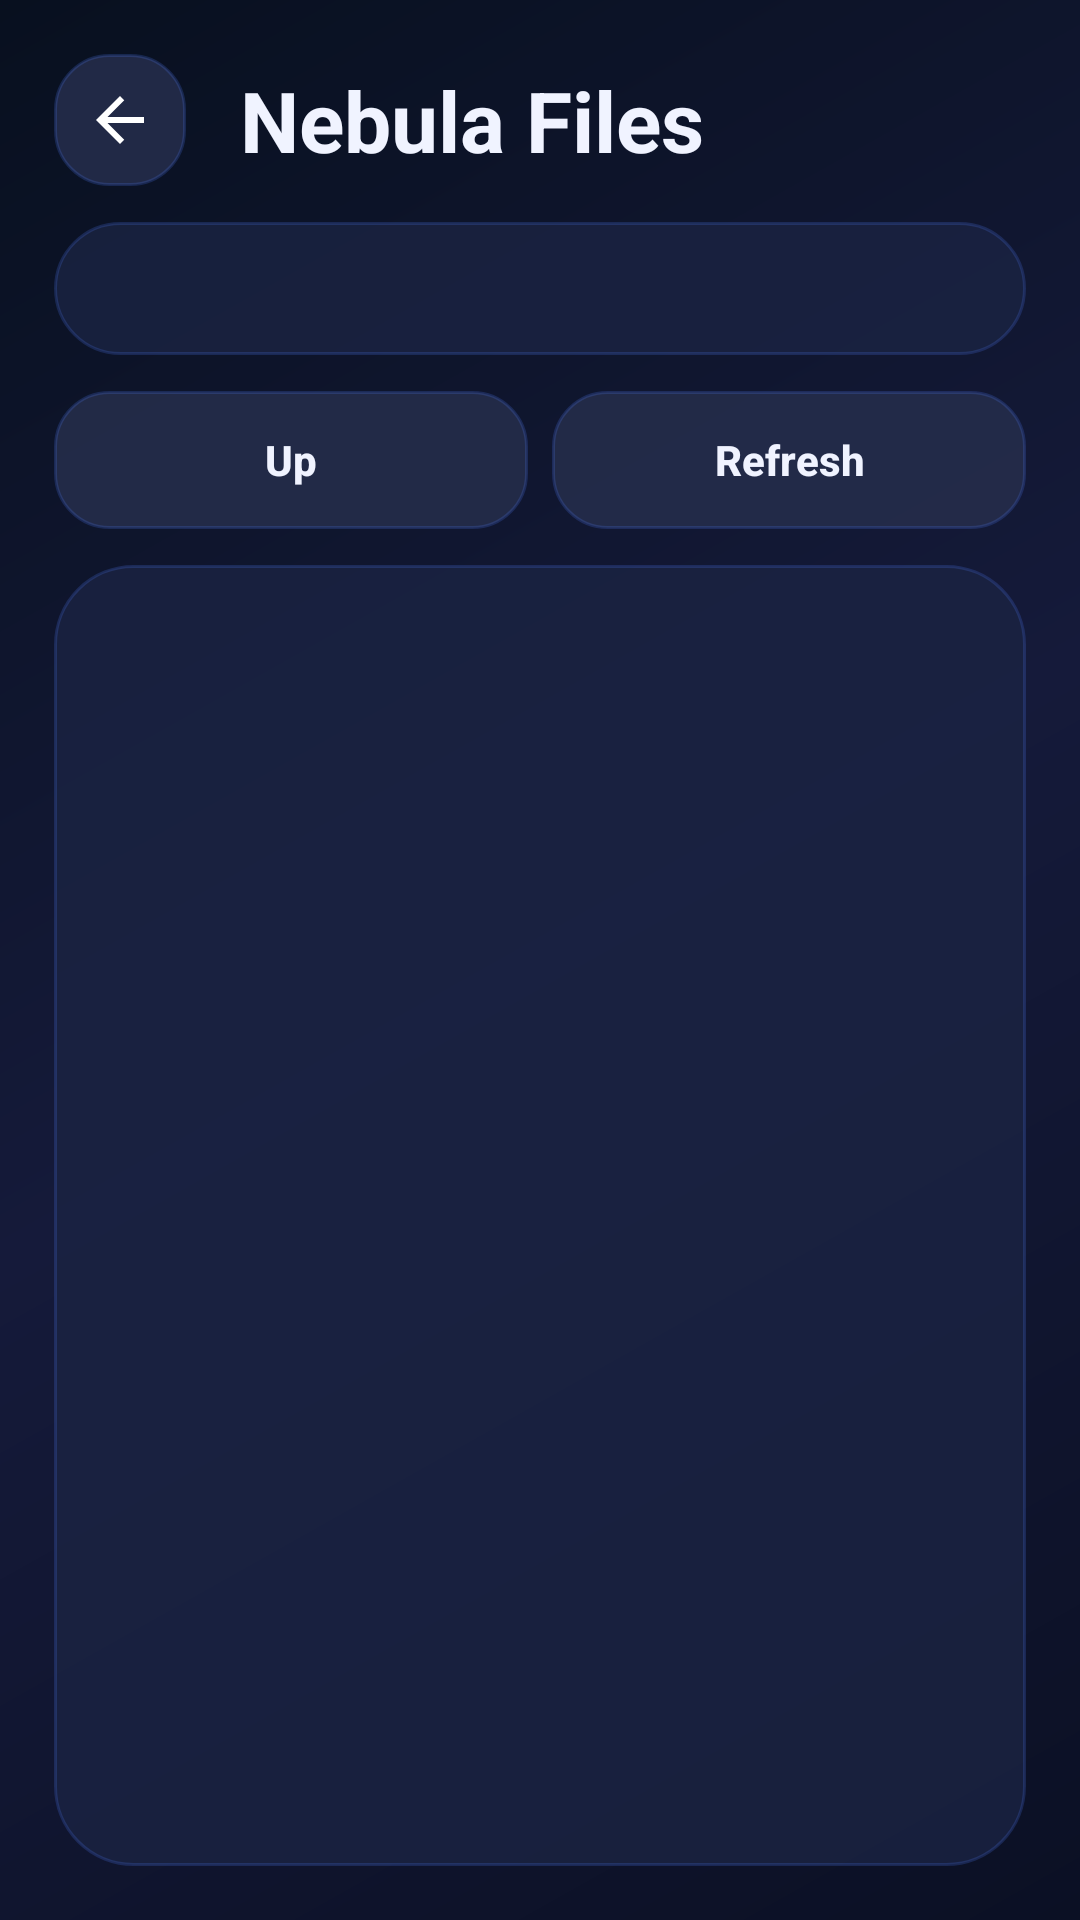

Screen size 1080*1920. Icon name, then its box in pixels as (x1, y1, x2, y2):
Back: (54, 54, 186, 186)
